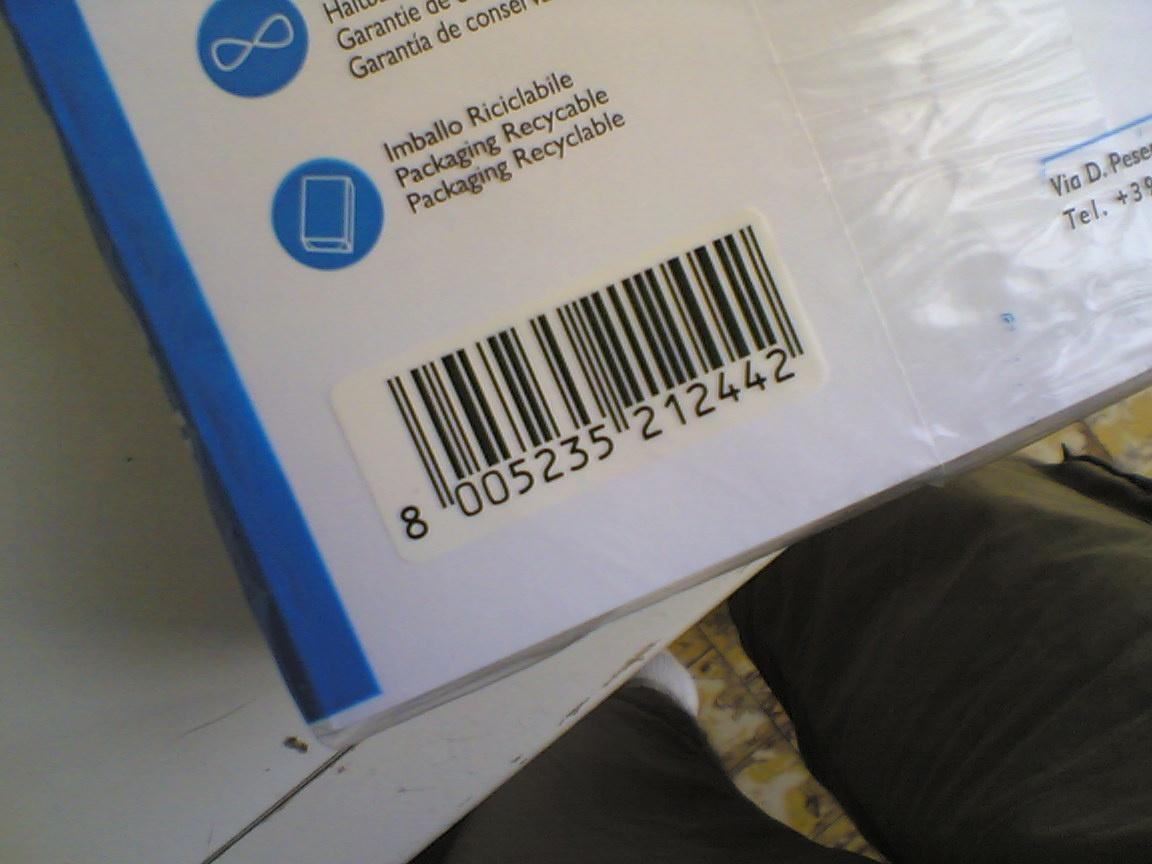Barcode: (324, 205, 828, 569)
